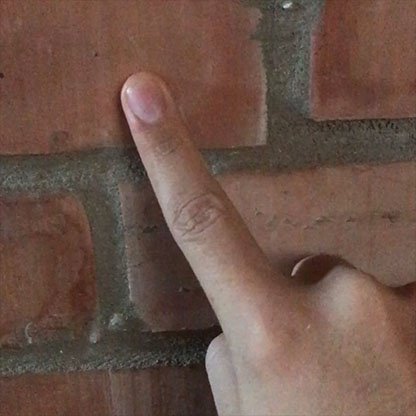fingertip: (112, 67, 186, 132)
